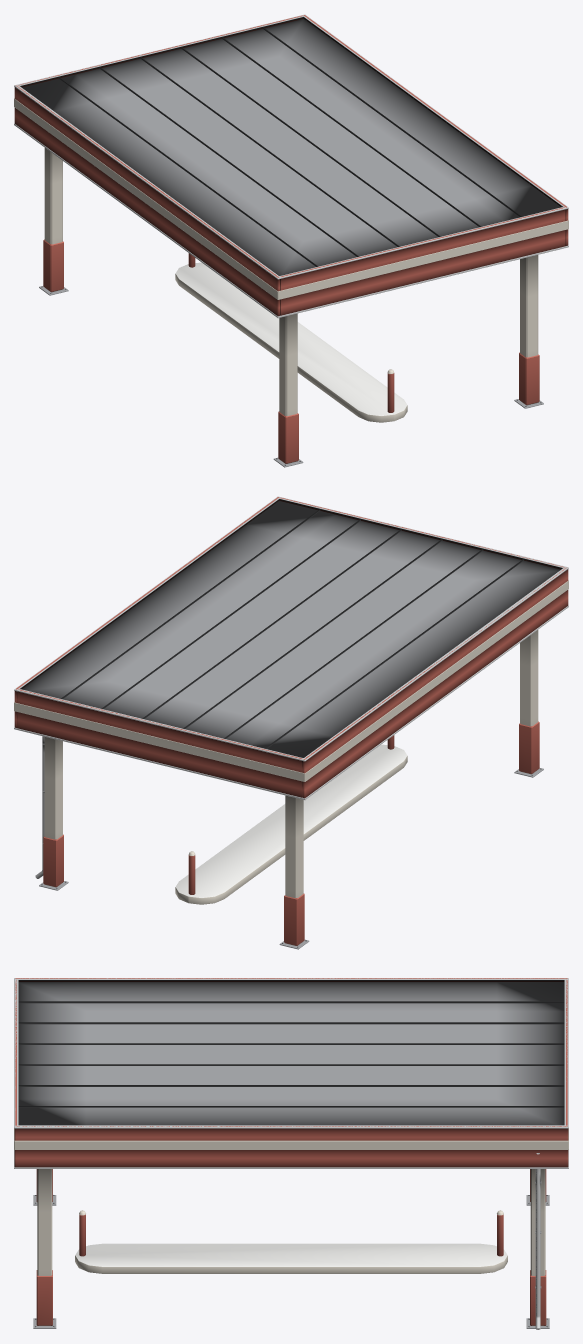
File: canopy.glb
The picture shows the model from 3 angles, top to bottom: view 1: azimuth 30°, elevation 25°; view 2: azimuth 150°, elevation 25°; view 3: azimuth 270°, elevation 25°; orthographic projection. The views are drawn at different scales.
Visible parts, largest first — view 1: PART; view 2: PART; view 3: PART.
Boxes of the visible parts, x1,y1,x2,y2 form: PART: [14, 14, 568, 467]; PART: [14, 496, 568, 949]; PART: [14, 978, 568, 1329].
Size of the model in its own units: 7.03 by 4.6 by 11.02.
